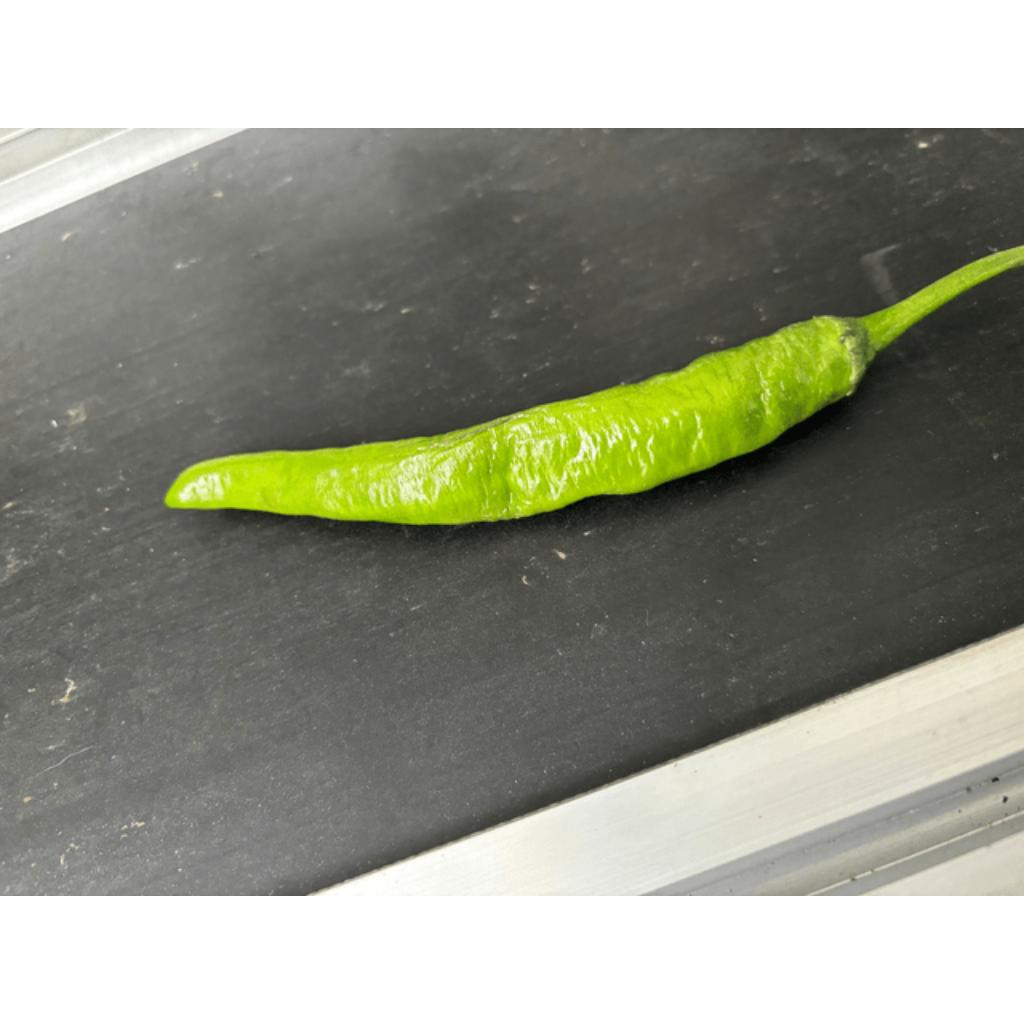chili: (159, 313, 881, 527)
